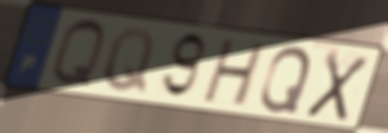9: (157, 31, 209, 102)
H: (198, 38, 269, 110)
Q: (48, 17, 108, 91), (257, 44, 315, 115), (99, 26, 157, 96)
X: (302, 47, 372, 124)
